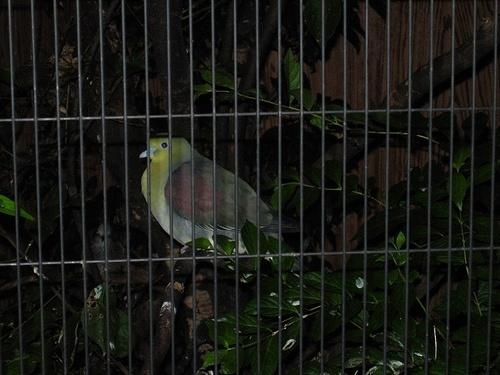bird: (143, 138, 283, 265)
